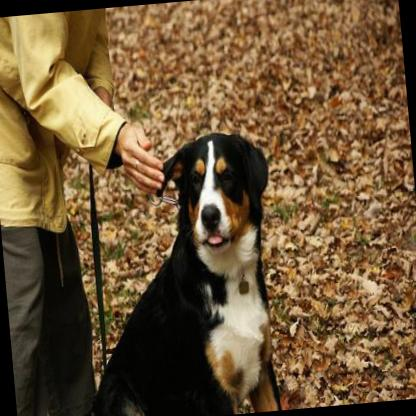Appenzeller: (64, 125, 287, 416)
